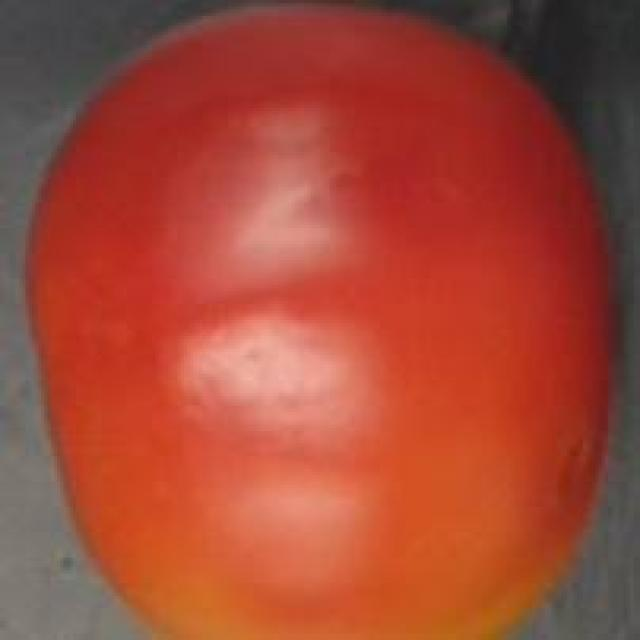overripe tomato: (19, 9, 630, 640)
